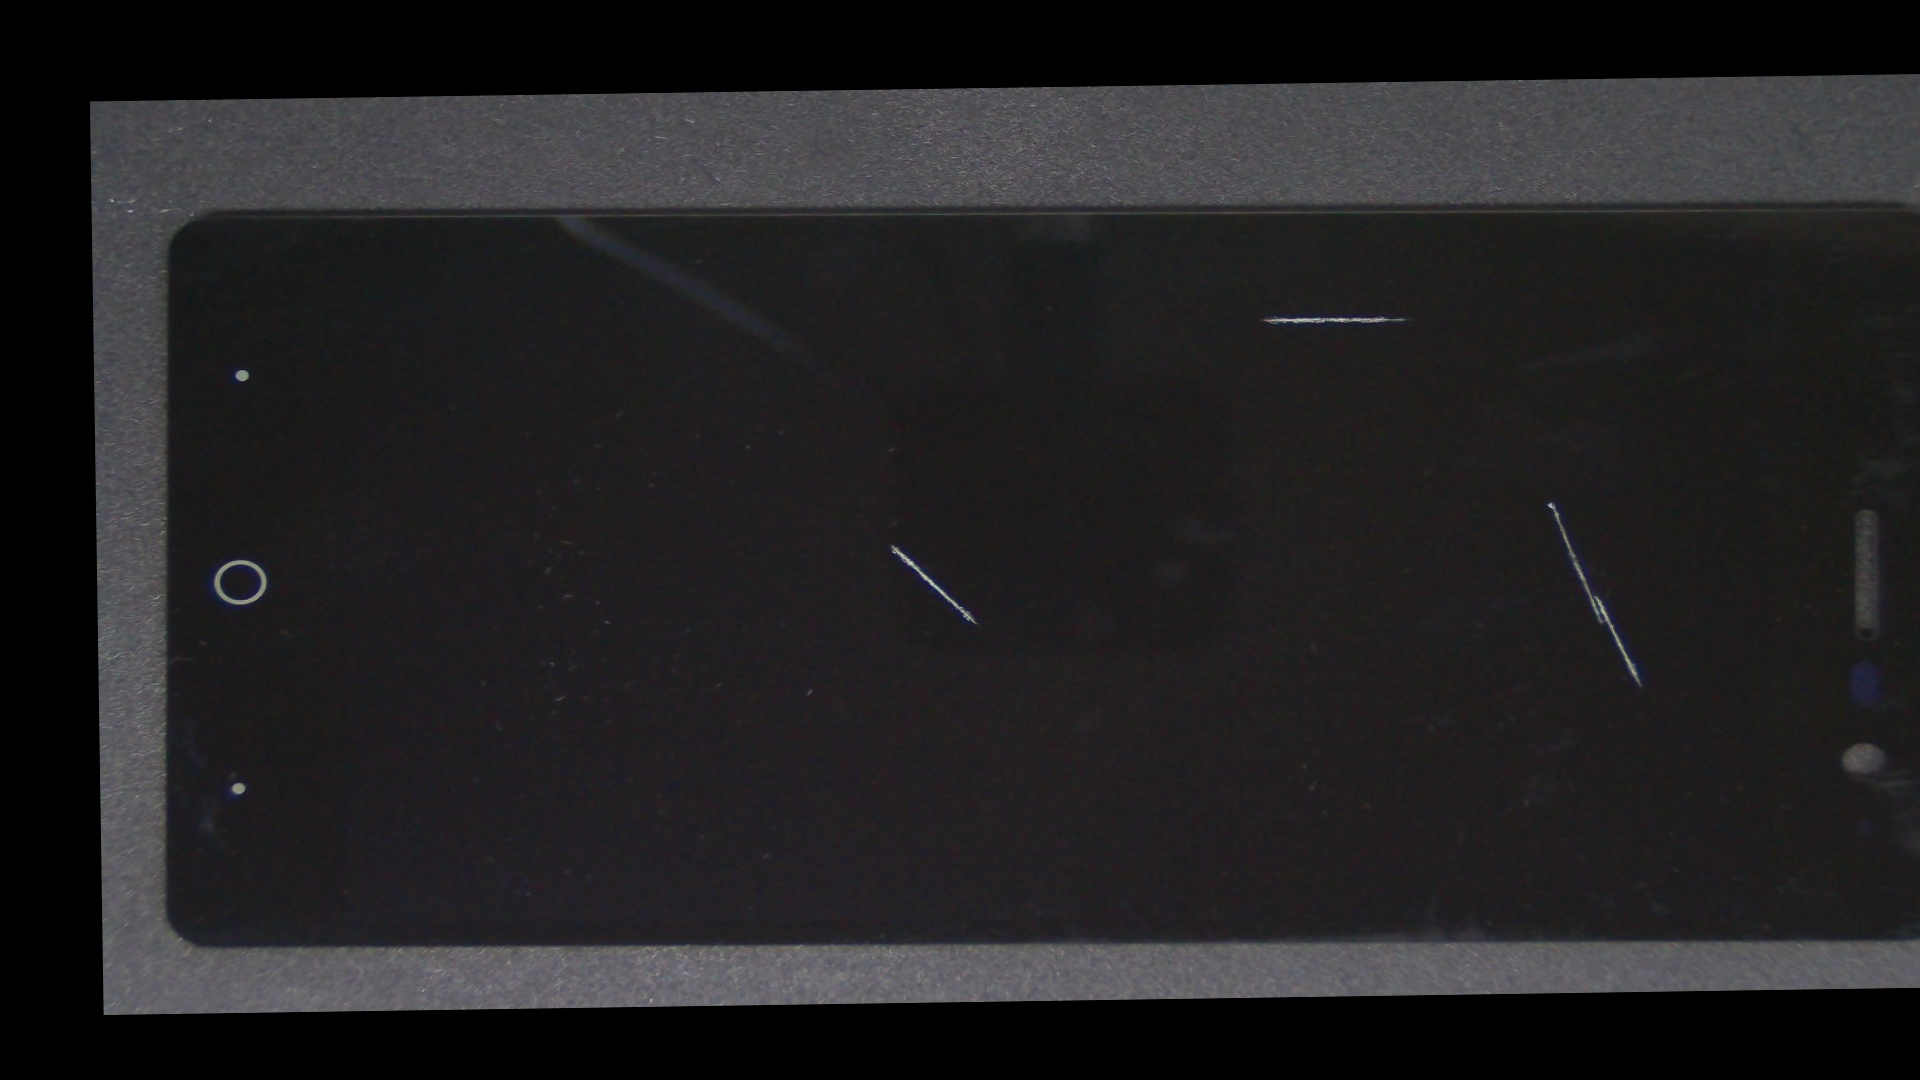oil: (820, 283, 1920, 723), (492, 310, 1291, 779), (678, 191, 1853, 441)
